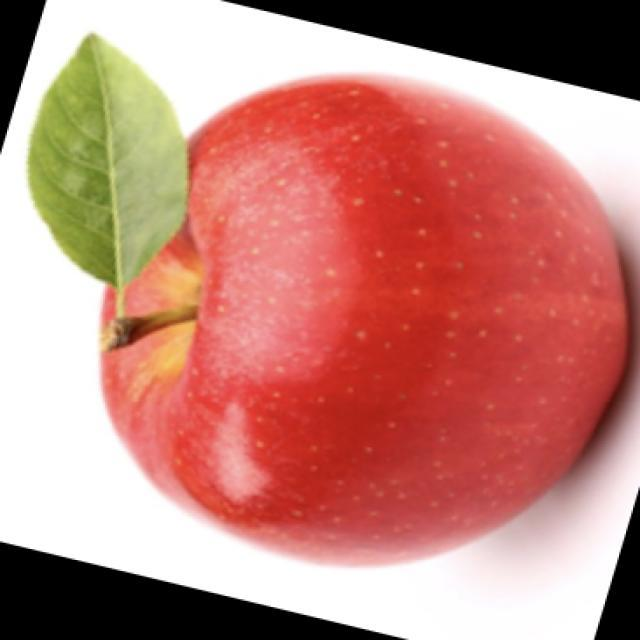Fresh Apple: (123, 106, 602, 546)
